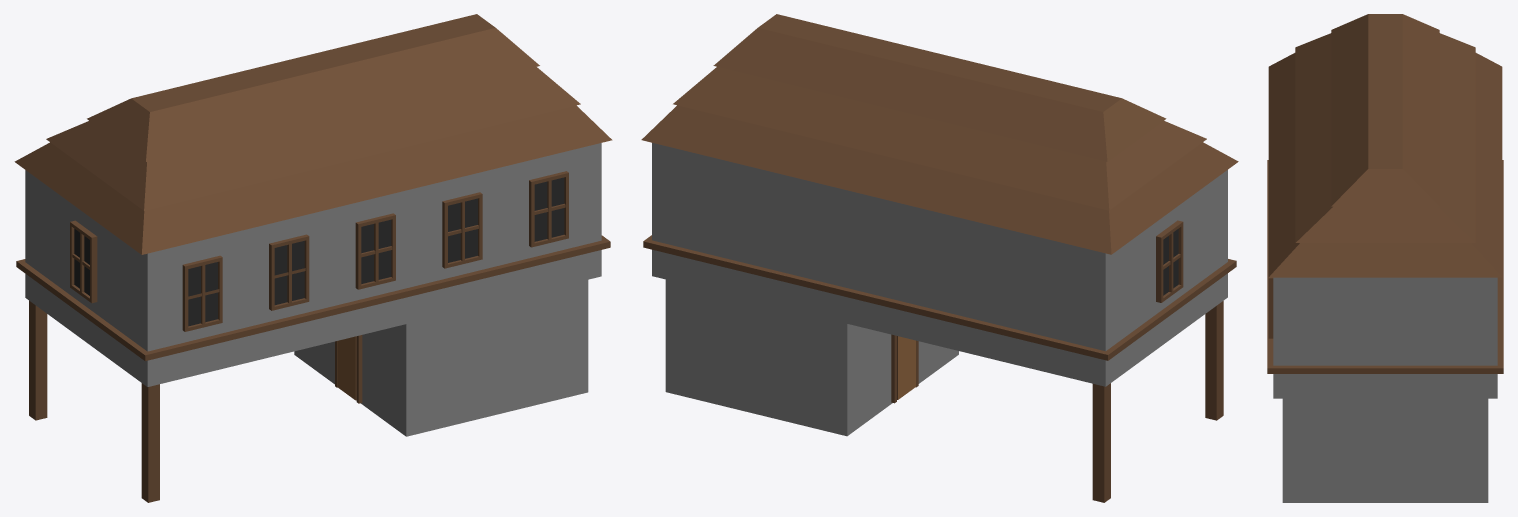
The model's file is ArcheryRange_base_mat.fbx.
3 views of the same model, side by side, from view 1: azimuth 30°, elevation 25°; view 2: azimuth 150°, elevation 25°; view 3: azimuth 270°, elevation 25° (orthographic). The views are drawn at different scales.
Parts seen in each view (by area): view 1: ArcheryRange_base_mat; view 2: ArcheryRange_base_mat; view 3: ArcheryRange_base_mat.
Boxes of the visible parts, left/top/right/bottom form: ArcheryRange_base_mat: left=14, top=14, right=612, bottom=502; ArcheryRange_base_mat: left=641, top=14, right=1238, bottom=502; ArcheryRange_base_mat: left=1267, top=14, right=1503, bottom=502.
Size of the model in its own units: 648 by 449 by 307.
